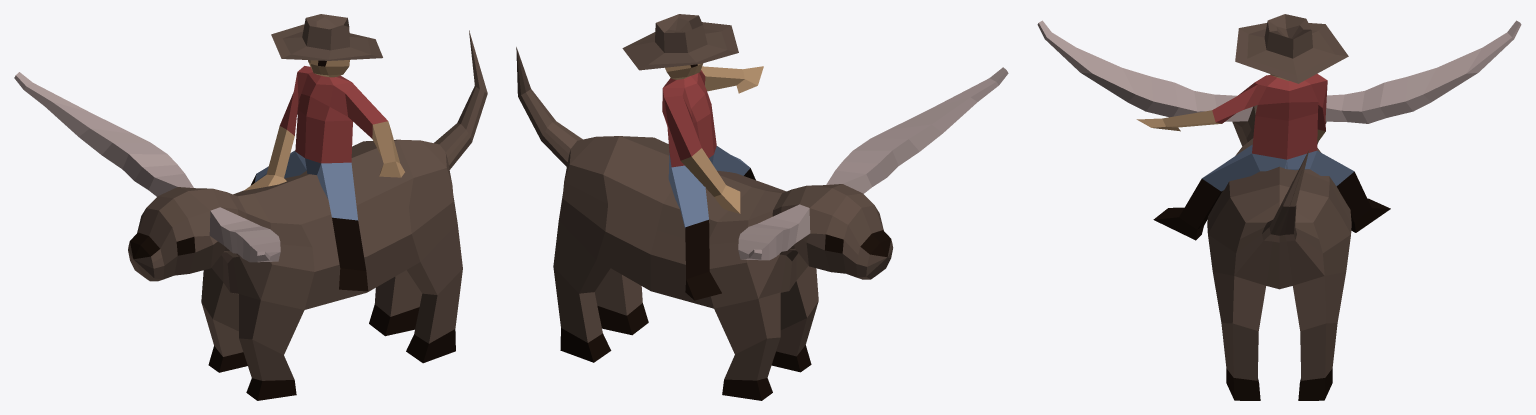
The model's file is Cowboy.fbx.
The picture shows the model from 3 angles, left to right: view 1: azimuth 30°, elevation 25°; view 2: azimuth 150°, elevation 25°; view 3: azimuth 270°, elevation 25°; orthographic projection. The views are drawn at different scales.
Parts seen in each view (by area): view 1: cow_body, cow_boy; view 2: cow_body, cow_boy; view 3: cow_body, cow_boy.
Boxes of the visible parts, box(x1,y1,x2,y2) form: cow_body: box(14, 30, 487, 400); cow_boy: box(244, 14, 404, 291); cow_body: box(516, 47, 1008, 400); cow_boy: box(622, 14, 763, 300); cow_body: box(1037, 20, 1521, 400); cow_boy: box(1136, 14, 1390, 240).
Size of the model in its own units: 835 by 751 by 1000.
